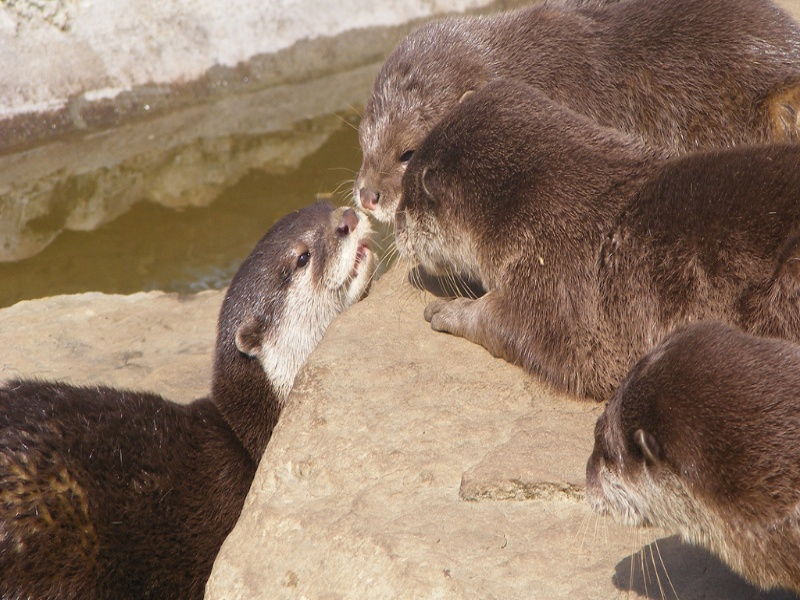minkish: (15, 199, 374, 576), (393, 82, 800, 403), (356, 13, 768, 249), (565, 313, 797, 586)
